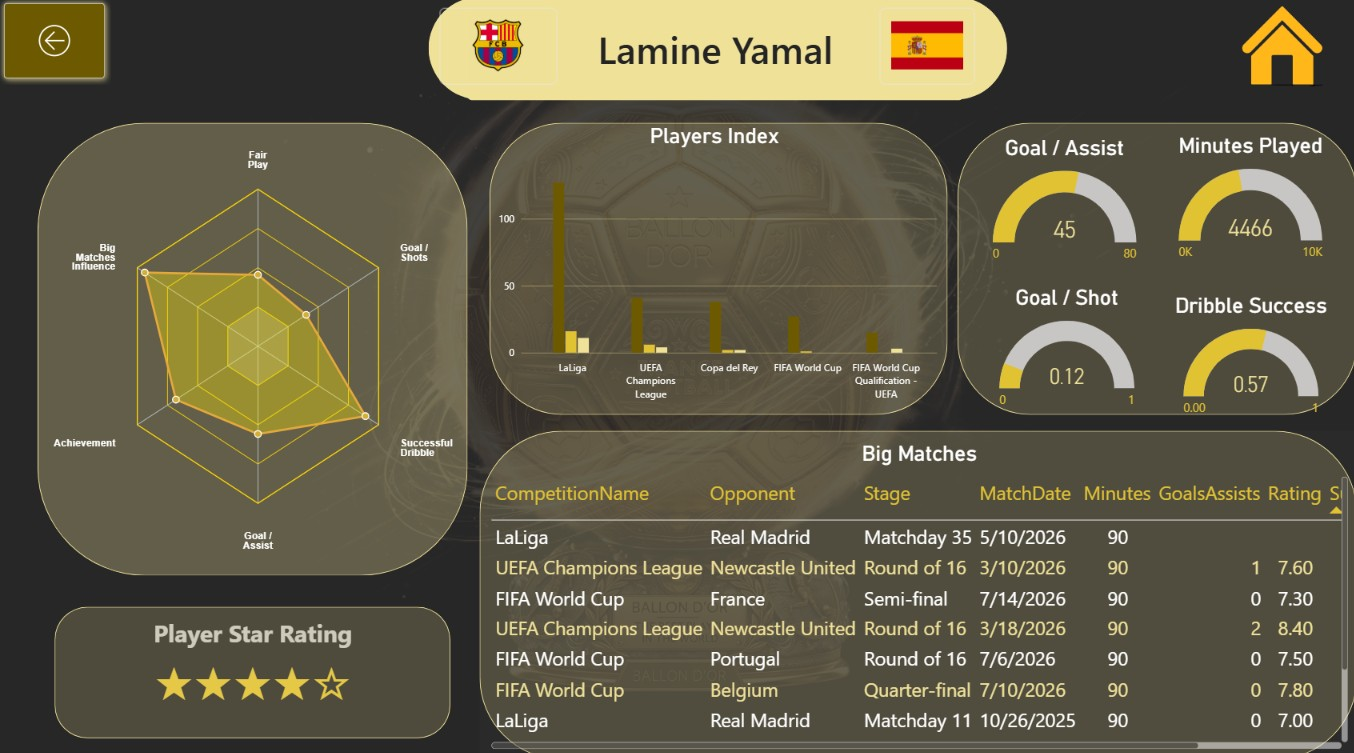

Layout of this report page (visuals, bound fields, positions):
{"tool":"powerbi","page":{"name":"Player Drill Through","canvas":[1920,1080],"ordinal":2},"visuals":[{"type":"shape","box":[1354,178,564,412],"z":0},{"type":"shape","box":[56.4,177.3,606.6,638.8],"z":1000},{"type":"shape","box":[694,178,646,412],"z":2000},{"type":"shape","box":[680,612,1238,464],"z":3000},{"type":"shape","box":[608.1,0,816,145],"z":4000},{"type":"deneb7E15AEF80B9E4D4F8E12924291ECE89A","fields":{"dataset":["Radar Axis.Metric","Radar Axis.Role Group","Radar Axis.SortOrder","CandidateSummary.Radar Axis Value","CandidateSummary.Radar Axis Visible"]},"box":[0,124.9,739.5,735.5],"z":5000},{"type":"actionButton","box":[0,0,160,124],"z":6000},{"type":"gauge","fields":{"MaxValue":["CandidateSummary.Detail Gauge 1 Max"],"Y":["CandidateSummary.Detail Gauge 1 Value"]},"box":[1378,180,254,214],"z":8000},{"type":"gauge","fields":{"MaxValue":["CandidateSummary.Detail Gauge 2 Max"],"Y":["CandidateSummary.Detail Gauge 2 Value"]},"box":[1382,392,252,208],"z":9000},{"type":"gauge","fields":{"MaxValue":["CandidateSummary.Detail Gauge 3 Max"],"Y":["CandidateSummary.Detail Gauge 3 Value"]},"box":[1632,404,272,208],"z":10000},{"type":"tableEx","title":"Big Matches","fields":{"Values":["Matches.CompetitionName","BigMatches.Opponent","Matches.Stage","Matches.MatchDate","BigMatches.Minutes","BigMatches.GoalsAssists","BigMatches.Rating","BigMatches.SuccessfulDribbleInfo"]},"box":[679.7,612.6,1240.9,464.6],"z":11000},{"type":"gauge","title":"Minutes Played","fields":{"MaxValue":["CandidateSummary.Minutes Played Max"],"Y":["Sum(CandidateSummary.Minutes Played)"]},"box":[1644,178,248,214],"z":12000},{"type":"cardVisual","title":"Rating","fields":{"Data":["CandidateSummary.Rating Star Display"]},"box":[40.3,860.5,638.8,185.4],"z":13000},{"type":"clusteredColumnChart","title":"Players Index","fields":{"Category":["FotMob_Stats.Competition"],"Y":["FotMob_Stats.Detail Cluster 3","FotMob_Stats.Detail Cluster 1","FotMob_Stats.Detail Cluster 2"]},"box":[681.1,163.2,660,424],"z":14000},{"type":"cardVisual","fields":{"Data":["Min(Candicates.PlayerName)"]},"box":[662.3,0,702,146],"z":16000},{"type":"imageDB603108E3FF4EBFB8047F5653368E8C","fields":{"imageUrl":["Candicates.Image_Club_URL"]},"box":[623.8,15.7,166,108.3],"z":17000},{"type":"imageDB603108E3FF4EBFB8047F5653368E8C","fields":{"imageUrl":["Candicates.Image_Nation_URL"]},"box":[1244.1,15.7,134.5,108.3],"z":18000},{"type":"shape","box":[80.6,860.5,558.2,185.4],"z":19000},{"type":"image","box":[1705.4,0,213.2,145],"z":20000}]}

Visuals, with their boxes in screenshot pixels (x1, y1, x2, y2), scaled from the page's 1920x1080 canvas onto the 1354x753 screenshot:
shape: [955,124,1353,411]
shape: [40,124,468,569]
shape: [489,124,945,411]
shape: [480,427,1353,750]
shape: [429,0,1004,101]
deneb7E15AEF80B9E4D4F8E12924291ECE89A - Radar Axis.Metric x Radar Axis.Role Group: [0,87,522,600]
actionButton: [0,0,113,86]
gauge - CandidateSummary.Detail Gauge 1 Max x CandidateSummary.Detail Gauge 1 Value: [972,126,1151,275]
gauge - CandidateSummary.Detail Gauge 2 Max x CandidateSummary.Detail Gauge 2 Value: [975,273,1152,418]
gauge - CandidateSummary.Detail Gauge 3 Max x CandidateSummary.Detail Gauge 3 Value: [1151,282,1343,427]
"Big Matches" tableEx: [479,427,1353,751]
"Minutes Played" gauge: [1159,124,1334,273]
"Rating" cardVisual: [28,600,479,729]
"Players Index" clusteredColumnChart: [480,114,946,409]
cardVisual - Min(Candicates.PlayerName): [467,0,962,102]
imageDB603108E3FF4EBFB8047F5653368E8C - Candicates.Image_Club_URL: [440,11,557,86]
imageDB603108E3FF4EBFB8047F5653368E8C - Candicates.Image_Nation_URL: [877,11,972,86]
shape: [57,600,450,729]
image: [1203,0,1353,101]
